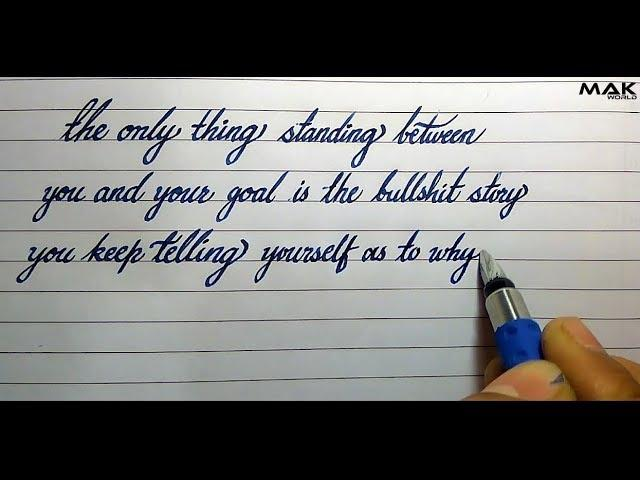text: (57, 93, 489, 169), (29, 164, 531, 227), (15, 225, 482, 291), (580, 82, 638, 97), (606, 93, 636, 103)
